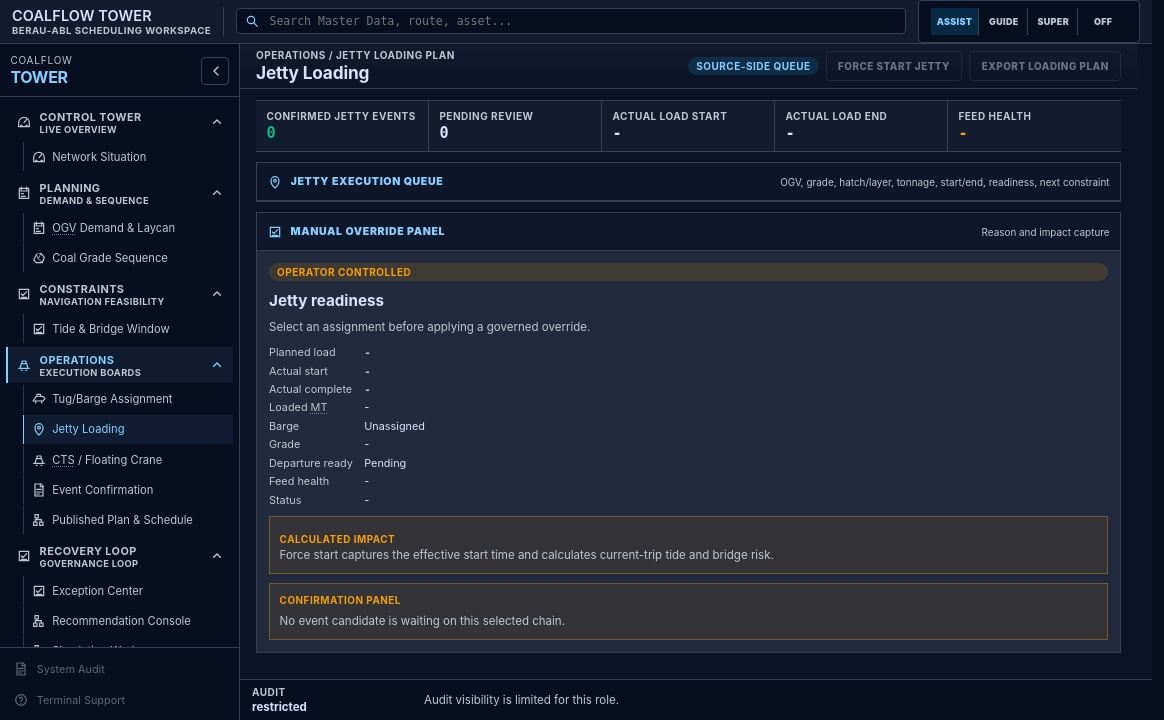
route navigation refreshes the newly opened planning page even while operations data is loading
Check: the heading "Jetty Loading" is shown, box [256,62,369,83]
Click the button "Coal Grade Sequence" at [128, 258], box [23,243,233,272]
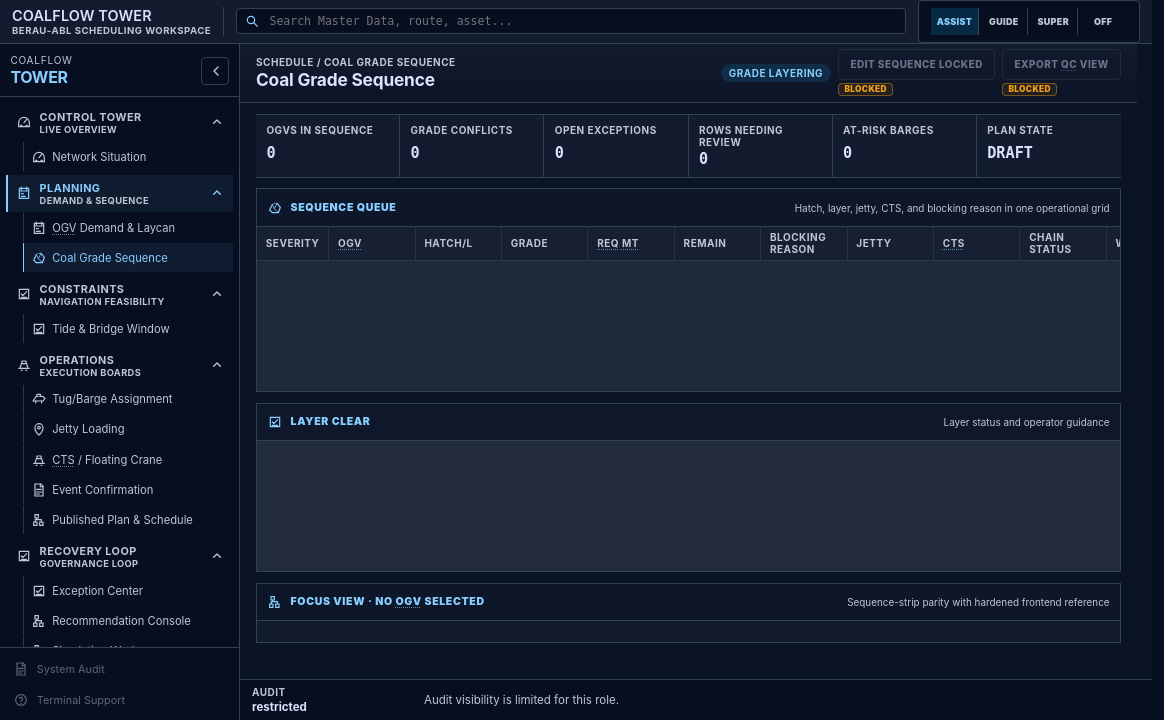
Check: the heading "Coal Grade Sequence" is shown, box [256,70,456,89]
